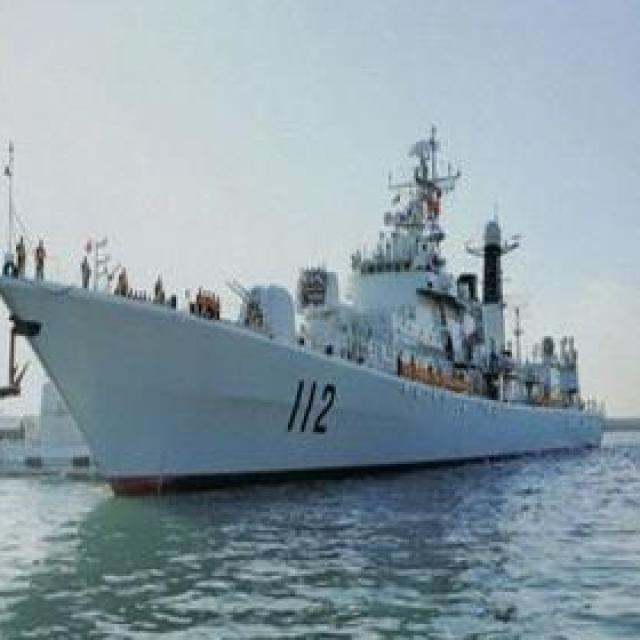navalvessels: (0, 110, 608, 478)
